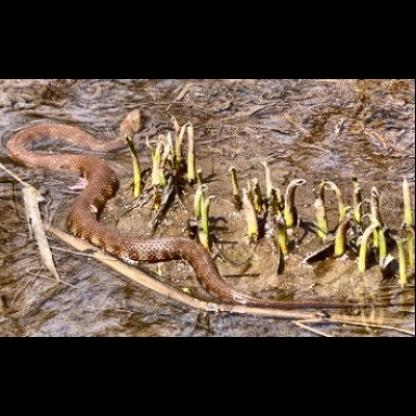Snake: (5, 99, 406, 311)
